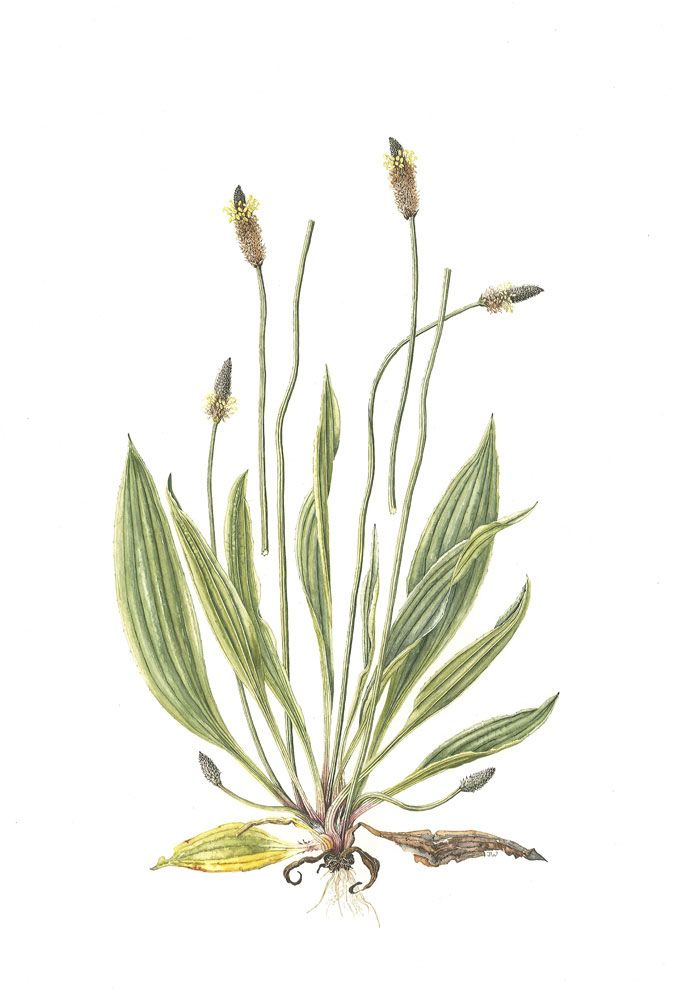buckhorn plantain: (80, 128, 586, 894)
